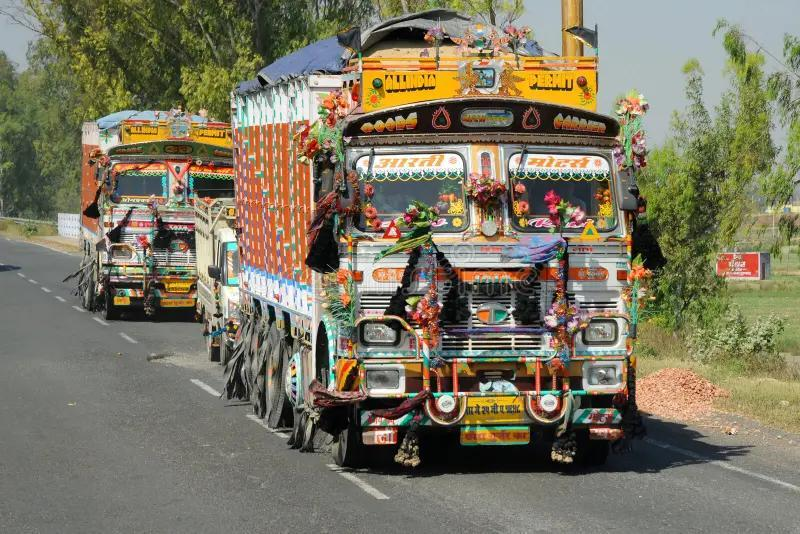truck: (189, 31, 647, 477)
